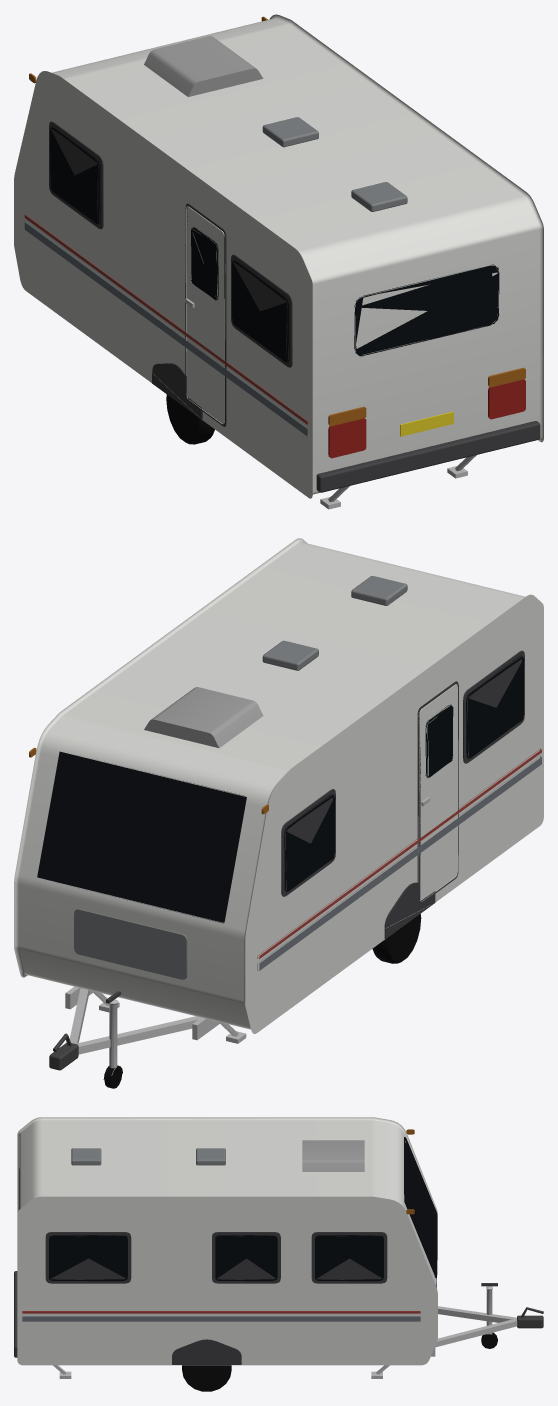
Rendered from vehicle.towed.touring_caravan_a.glb.
The picture shows the model from 3 angles, top to bottom: view 1: azimuth 30°, elevation 25°; view 2: azimuth 150°, elevation 25°; view 3: azimuth 270°, elevation 25°; orthographic projection. The views are drawn at different scales.
Parts seen in each view (by area): view 1: main__paint_ddd, main__glass_dark, main__enamel_444, main__lens_999, main__paint_777, main__lens_922, main__enamel_778, main__paint_a43, main__rubber, main__lens_962, main__paint_dc2, main__galv_bbb; view 2: main__paint_ddd, main__glass_dark, main__enamel_778, main__enamel_444, main__lens_999, main__galv_bbb, main__paint_777, main__rubber, main__paint_a43, main__paint_444; view 3: main__paint_ddd, main__glass_dark, main__enamel_444, main__paint_777, main__lens_999, main__galv_bbb, main__rubber, main__paint_a43, main__enamel_778, main__paint_444.
Boxes of the visible parts, x1=… form: main__paint_ddd: x1=14, y1=14, x2=543, y2=498; main__glass_dark: x1=50, y1=126, x2=499, y2=362; main__enamel_444: x1=49, y1=121, x2=540, y2=492; main__lens_999: x1=144, y1=36, x2=263, y2=96; main__paint_777: x1=24, y1=222, x2=309, y2=436; main__lens_922: x1=328, y1=379, x2=525, y2=458; main__enamel_778: x1=262, y1=117, x2=407, y2=211; main__paint_a43: x1=24, y1=214, x2=309, y2=424; main__rubber: x1=166, y1=394, x2=214, y2=444; main__lens_962: x1=29, y1=16, x2=525, y2=426; main__paint_dc2: x1=400, y1=411, x2=453, y2=436; main__galv_bbb: x1=320, y1=455, x2=476, y2=509; main__paint_ddd: x1=14, y1=538, x2=543, y2=1033; main__glass_dark: x1=37, y1=655, x2=524, y2=923; main__enamel_778: x1=74, y1=576, x2=407, y2=979; main__enamel_444: x1=281, y1=650, x2=524, y2=938; main__lens_999: x1=144, y1=687, x2=263, y2=747; main__galv_bbb: x1=65, y1=986, x2=246, y2=1075; main__paint_777: x1=257, y1=756, x2=541, y2=970; main__rubber: x1=103, y1=914, x2=421, y2=1088; main__paint_a43: x1=257, y1=748, x2=541, y2=958; main__paint_444: x1=49, y1=991, x2=120, y2=1070; main__paint_ddd: x1=17, y1=1117, x2=437, y2=1365; main__glass_dark: x1=19, y1=1137, x2=437, y2=1281; main__enamel_444: x1=14, y1=1232, x2=387, y2=1364; main__paint_777: x1=22, y1=1316, x2=420, y2=1321; main__lens_999: x1=302, y1=1140, x2=364, y2=1171; main__galv_bbb: x1=53, y1=1286, x2=517, y2=1378; main__rubber: x1=182, y1=1332, x2=497, y2=1391; main__paint_a43: x1=22, y1=1311, x2=420, y2=1313; main__enamel_778: x1=71, y1=1148, x2=436, y2=1287; main__paint_444: x1=481, y1=1283, x2=543, y2=1328.
Size of the model in its own units: 2.32 by 2.72 by 6.38.
